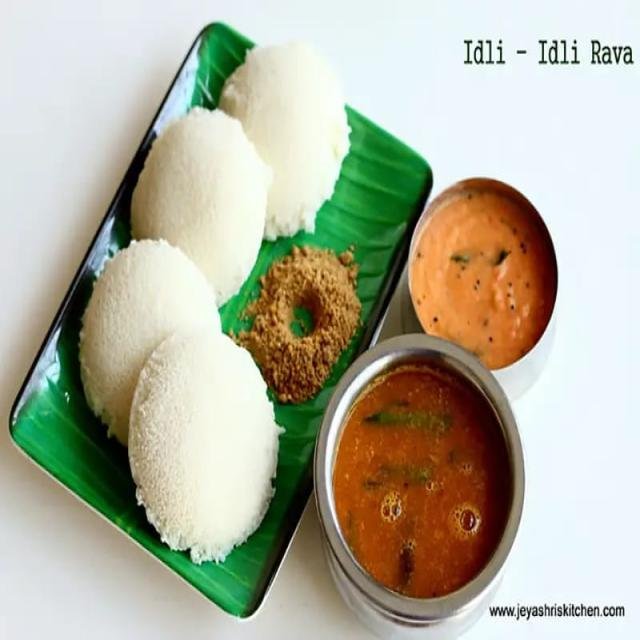rave idli: (122, 322, 286, 576), (75, 236, 233, 454), (124, 98, 267, 309), (222, 38, 354, 244)
